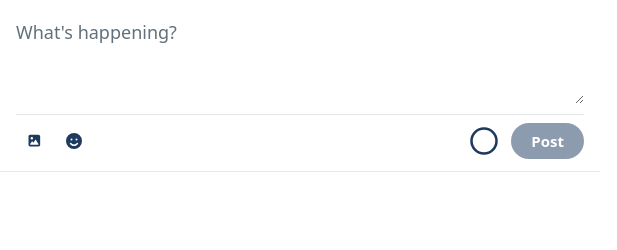
Test: Composer — what Retry may offer (H-1, M-5) › a 429 alone gets the rate-limit wording, with Retry (W-2)
In the text box named "Post text": (300, 58) x1=16 y1=12 x2=584 y2=104, type "Roads are closed."
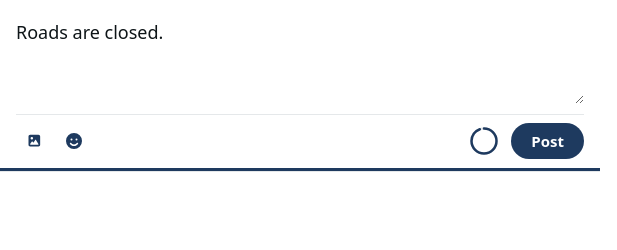
Click the button "Post": click(548, 141) x1=511 y1=123 x2=584 y2=159
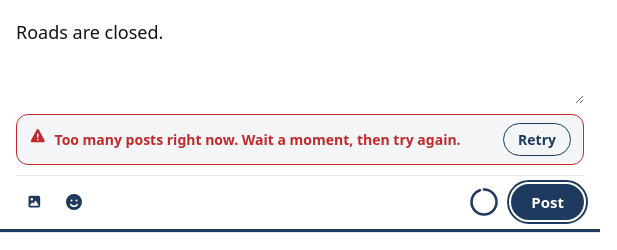
Check: the message with test id "composer-publish-error" shows "Too many posts right now", box x1=54 y1=130 x2=461 y2=149
Check: the button "Retry" is shown, box x1=503 y1=123 x2=571 y2=156
